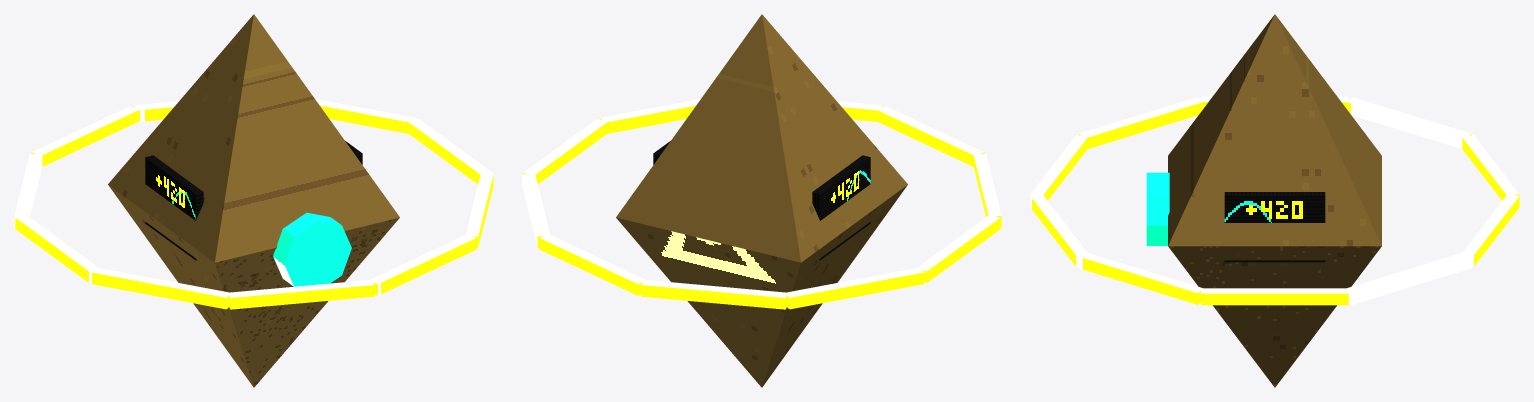
The model's file is cryptid_drone.glb.
3 views of the same model, side by side, from view 1: azimuth 30°, elevation 25°; view 2: azimuth 150°, elevation 25°; view 3: azimuth 270°, elevation 25° (orthographic).
Parts seen in each view (by area): view 1: prop, spin_ring; view 2: prop, spin_ring; view 3: prop, spin_ring.
Boxes of the visible parts, x1=… form: prop: x1=108, y1=14, x2=399, y2=387; spin_ring: x1=14, y1=99, x2=493, y2=309; prop: x1=616, y1=14, x2=907, y2=387; spin_ring: x1=522, y1=99, x2=1001, y2=309; prop: x1=1146, y1=14, x2=1381, y2=387; spin_ring: x1=1030, y1=96, x2=1519, y2=305.
Bounding box in the file's own units: 1.02 × 0.9 × 1.07.
Materials: 1 (1 with a texture image).
